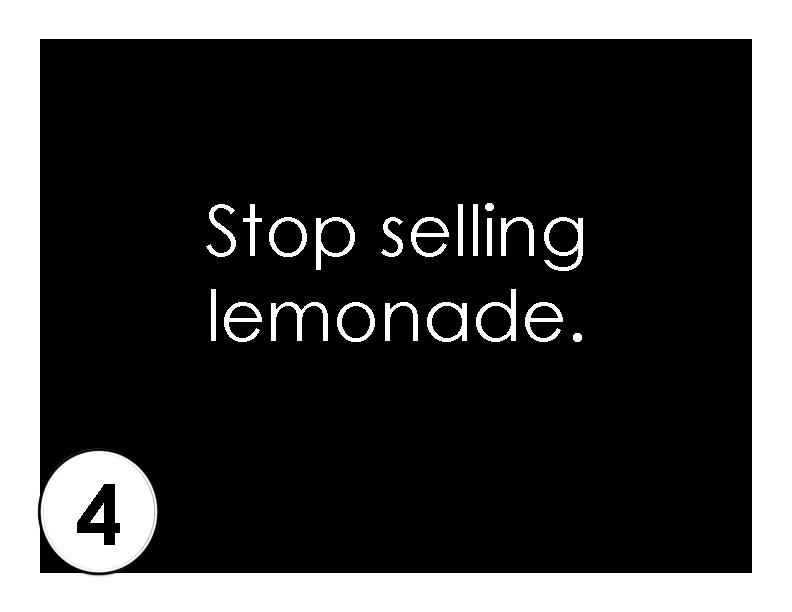title: (185, 176, 617, 369)
